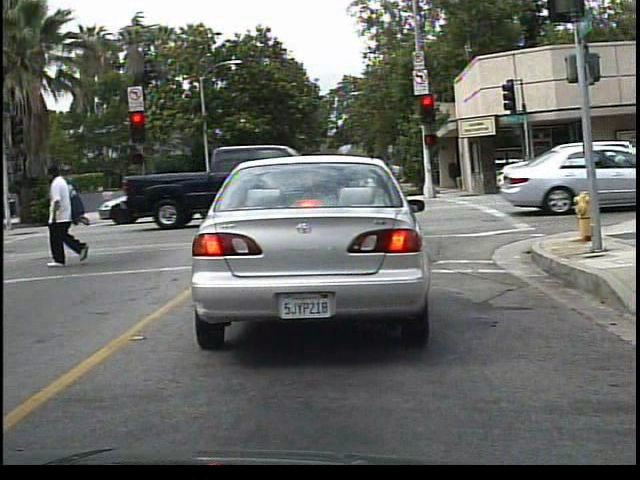person: (44, 162, 97, 269)
